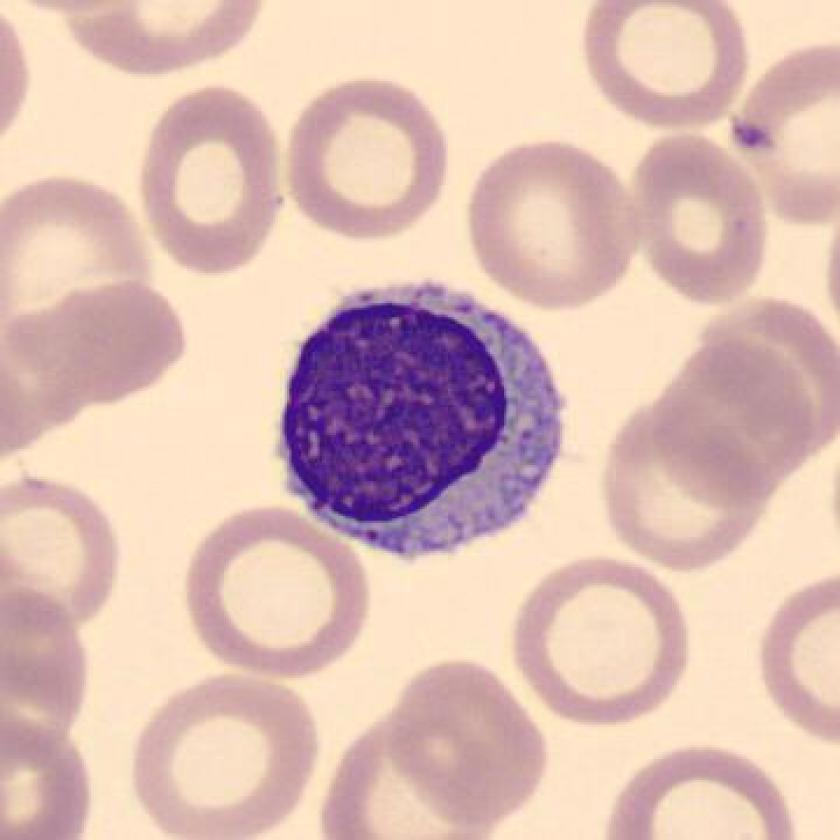lymphocyte: (263, 265, 585, 566)
